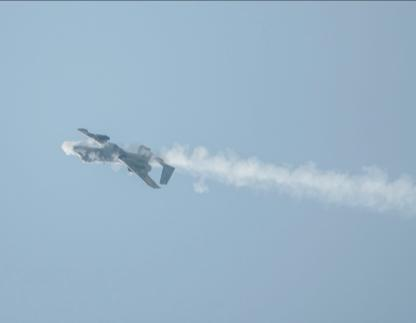A10: (72, 128, 176, 188)
